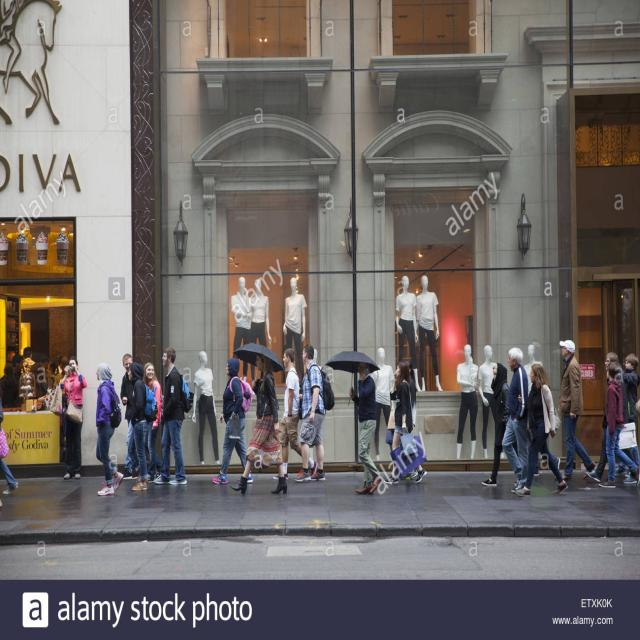body: (231, 350, 288, 497), (586, 349, 640, 484), (516, 362, 569, 496), (270, 345, 319, 481), (554, 336, 598, 481), (291, 342, 336, 482), (380, 358, 428, 486), (152, 345, 194, 488), (210, 356, 255, 486), (595, 359, 640, 489), (481, 362, 521, 489), (499, 345, 532, 495), (384, 357, 420, 482), (348, 363, 382, 495), (94, 360, 126, 498), (56, 355, 88, 480), (612, 351, 640, 482), (0, 348, 68, 401), (126, 362, 150, 492), (142, 362, 165, 482), (120, 352, 140, 481), (0, 393, 20, 507), (16, 346, 39, 404), (634, 396, 640, 415)
